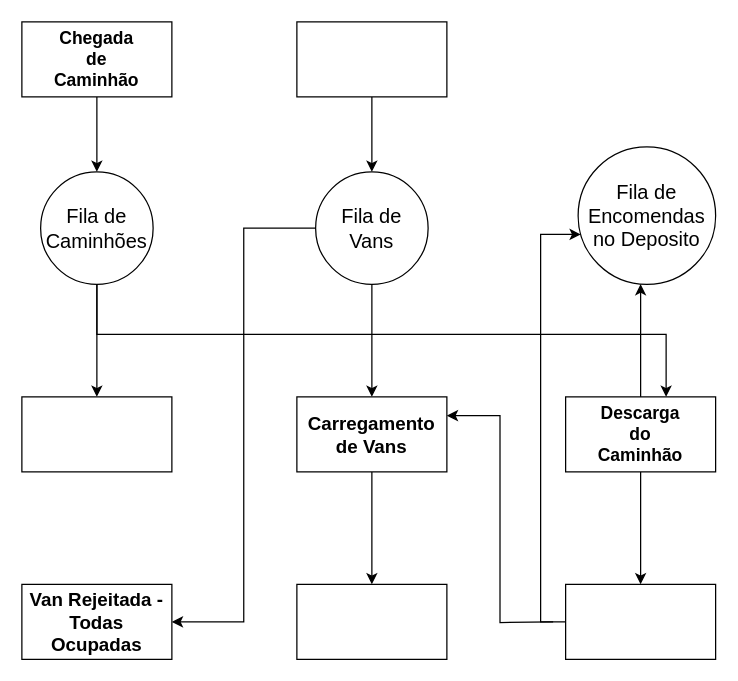
Some shapes in this 738 by 681 pixel diagram are drawn without their labels. The shapes that lost their labels are listed below. From the top down, each one's centre as x and y in pixels, then its label:
At (x=371, y=59): "Chegada da Van".
At (x=96, y=434): "Caminhão Rejeitado - Pátio Cheio".
At (x=371, y=621): "Saída da Van para Entrega".
At (x=640, y=621): "Armazenamento no Depósito".
